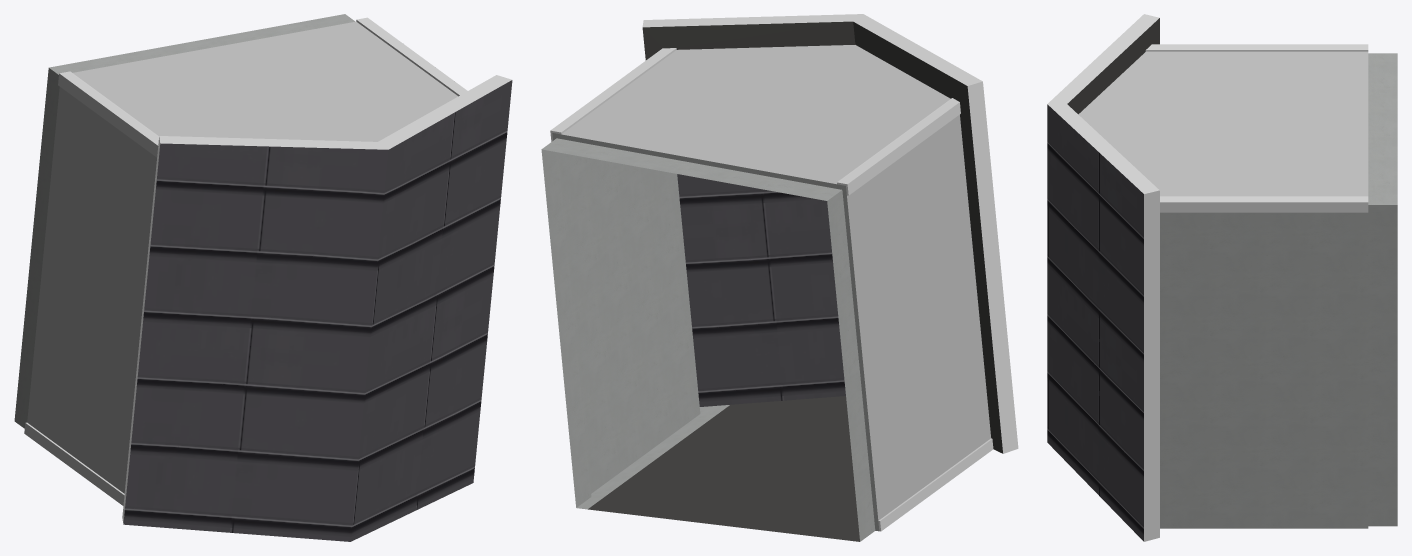
The model's file is Aia_6_3.obj.
3 views of the same model, side by side, from view 1: azimuth 30°, elevation 25°; view 2: azimuth 150°, elevation 25°; view 3: azimuth 270°, elevation 25° (orthographic). The views are drawn at different scales.
Parts seen in each view (by area): view 1: Aia_6_3; view 2: Aia_6_3; view 3: Aia_6_3.
Boxes of the visible parts, x1,y1,x2,y2 form: Aia_6_3: (14, 14, 512, 541); Aia_6_3: (541, 14, 1018, 541); Aia_6_3: (1047, 14, 1397, 541).
Bounding box in the file's own units: 4.17 × 4.26 × 3.5.
